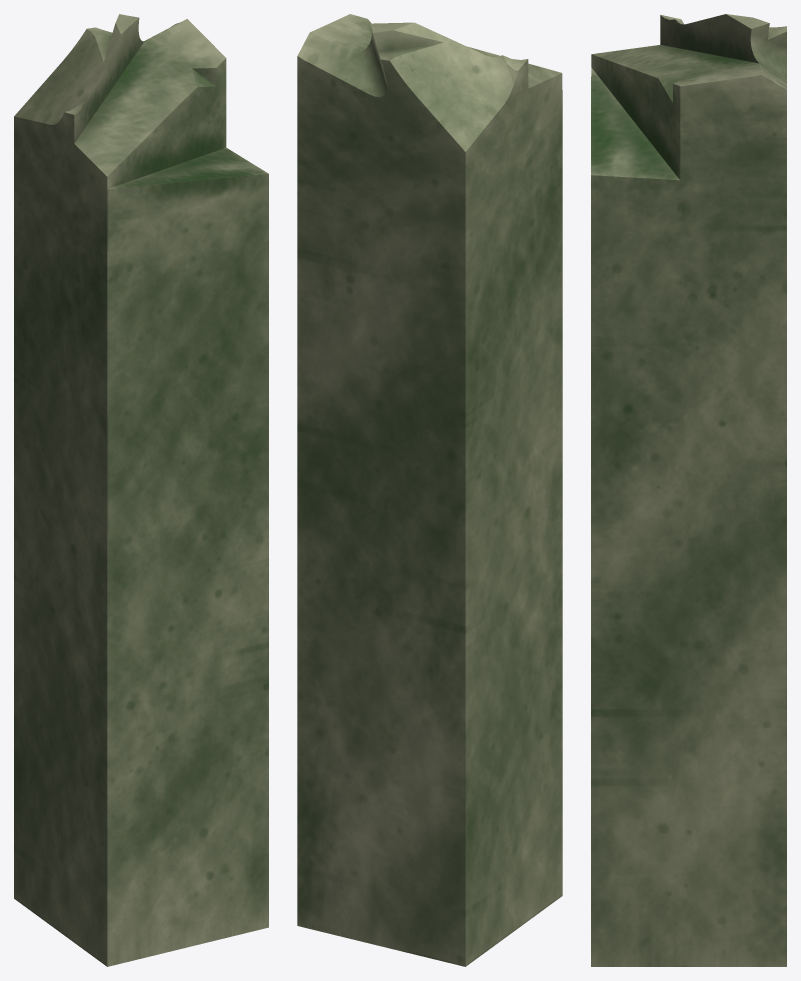
File: Mini Ruins 1.fbx
3 renders of one model, left to right at view 1: azimuth 30°, elevation 25°; view 2: azimuth 150°, elevation 25°; view 3: azimuth 270°, elevation 25°, orthographic. The views are drawn at different scales.
Parts seen in each view (by area): view 1: Mini Ruins 1; view 2: Mini Ruins 1; view 3: Mini Ruins 1.
Boxes of the visible parts, x1,y1,x2,y2 form: Mini Ruins 1: (14,14,268,966); Mini Ruins 1: (297,14,562,966); Mini Ruins 1: (591,14,786,966).
Bounding box in the file's own units: 33.62 × 172 × 33.62.
1 material, 1 textured.
